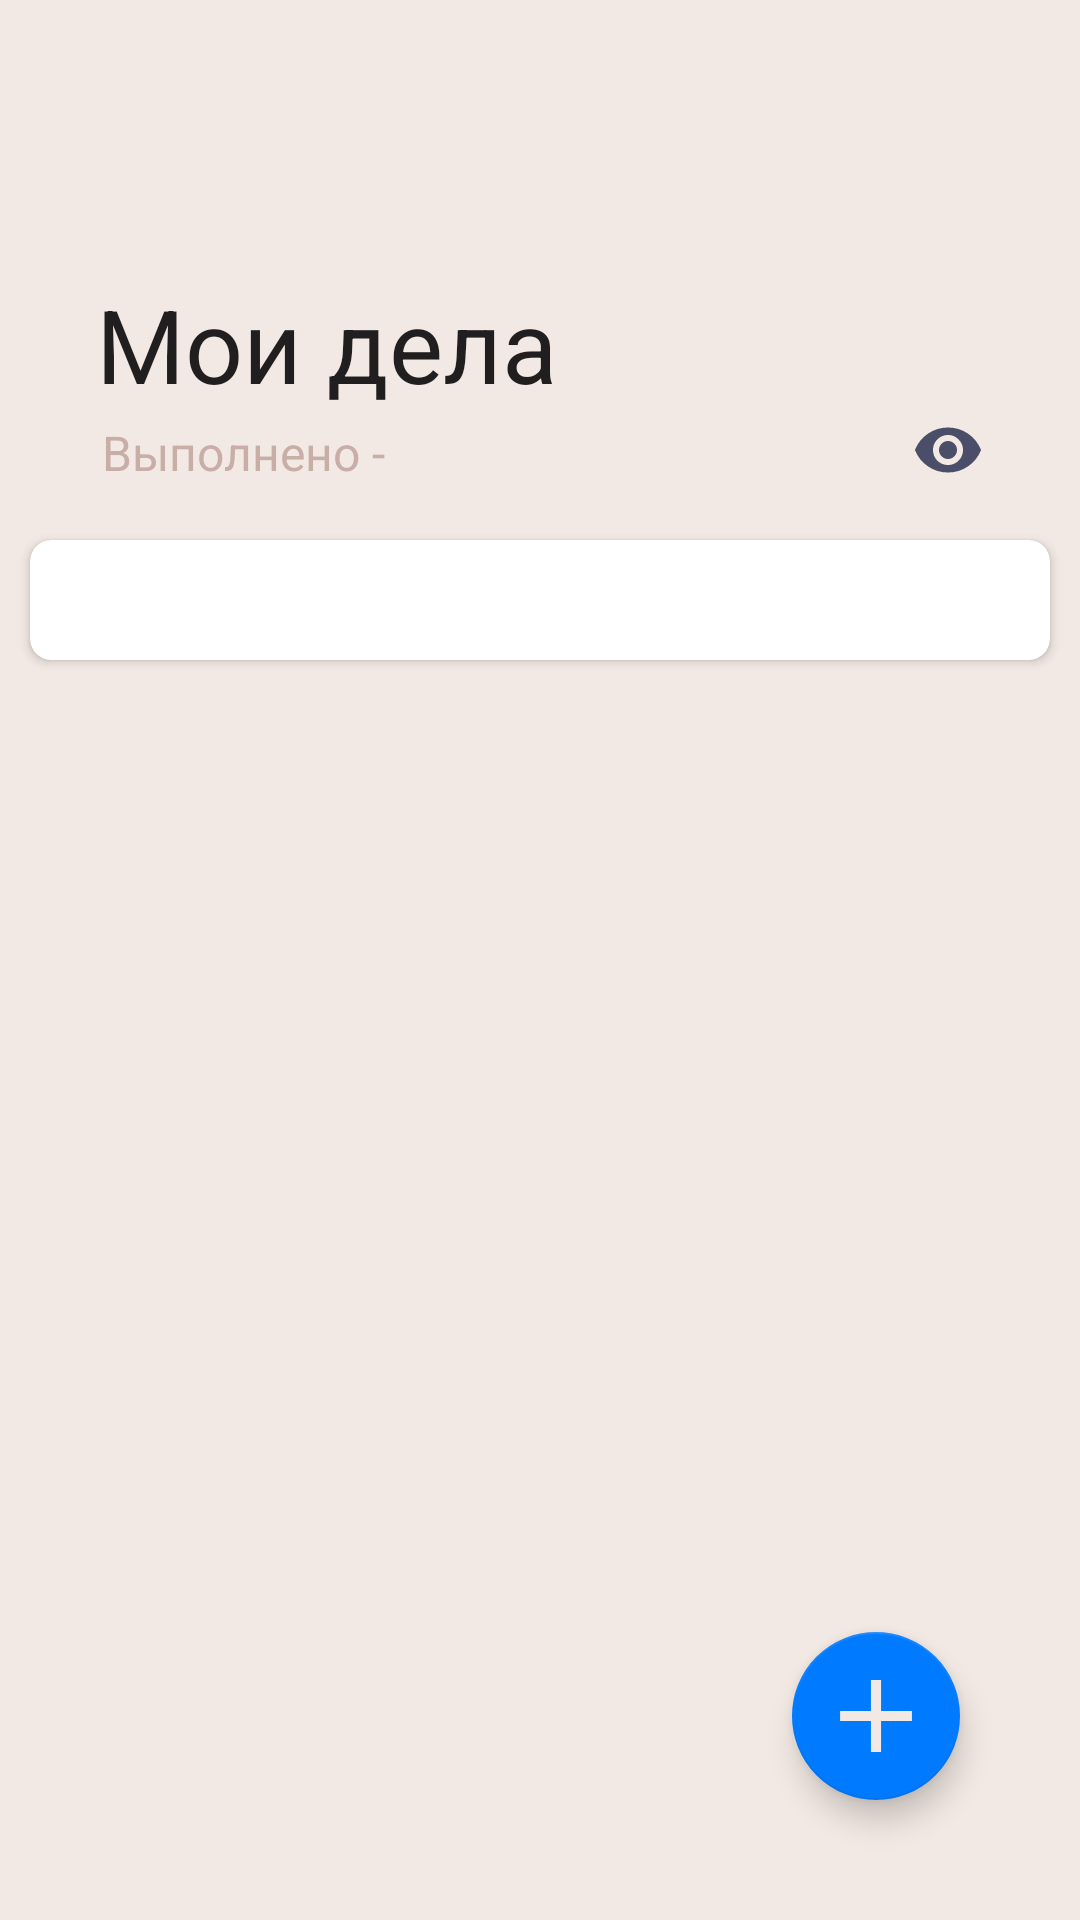

Where to tap for icons on this 1080 × 1920 app screen, as [x,y]:
add: [876,1716]
visibility: [948,450]
